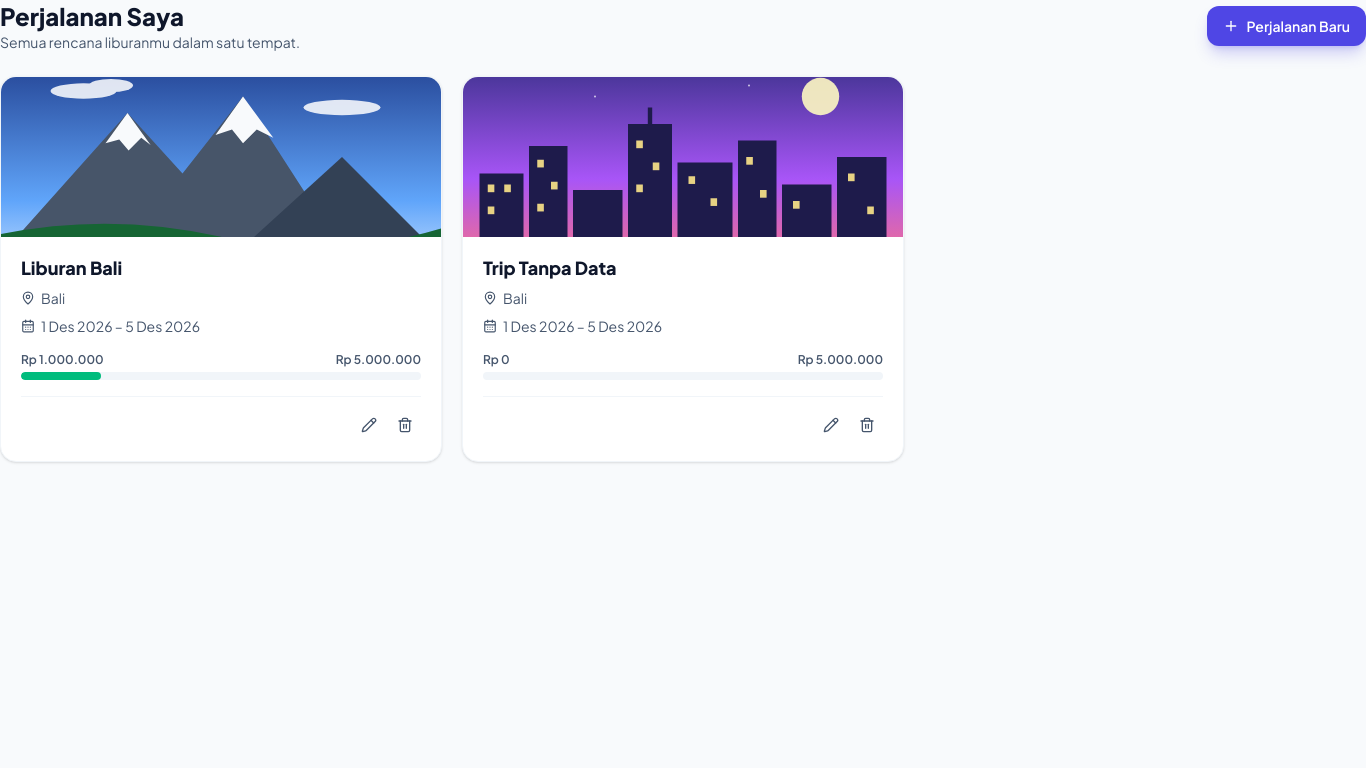
Test: HomePage › membuka modal untuk perjalanan baru
Click the button "Perjalanan Baru": (1286, 26) [1206, 6, 1365, 46]
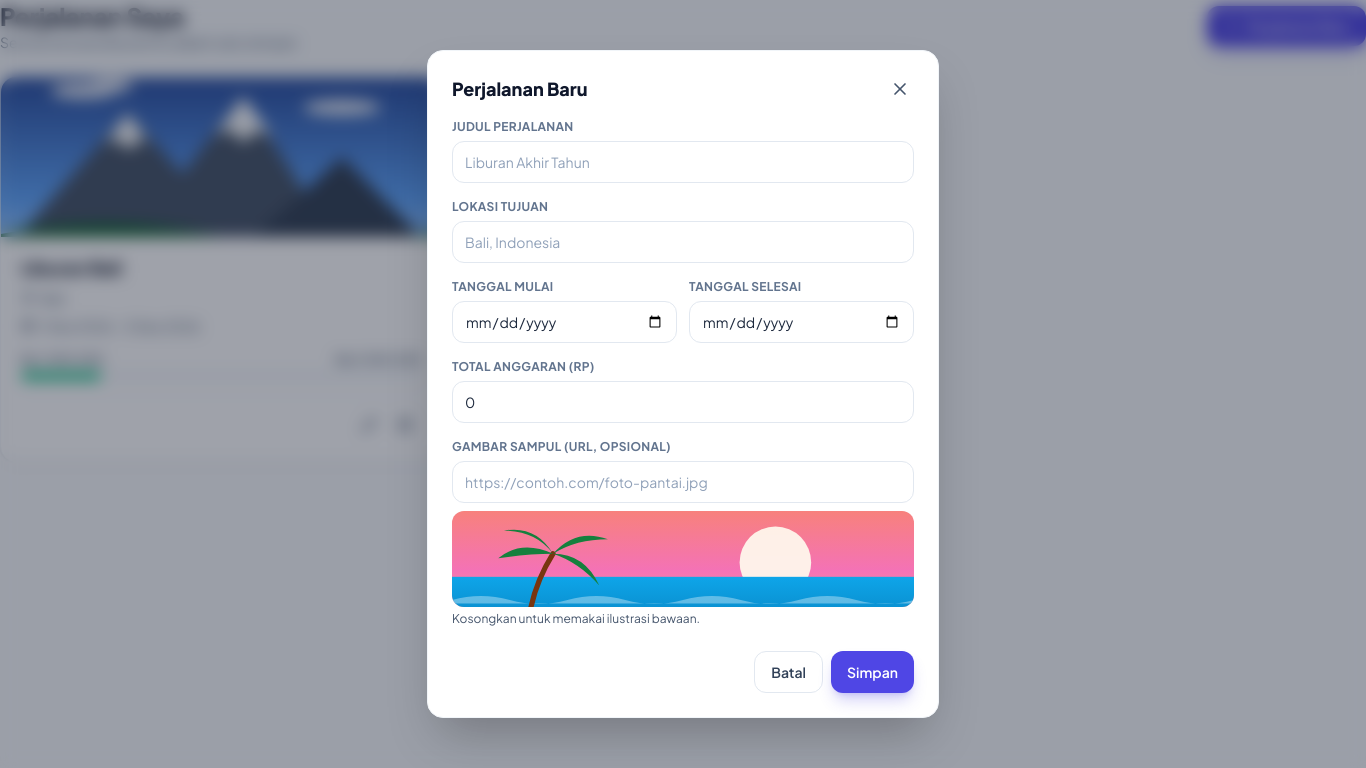
Check: the element with test id "trip-modal" is shown
